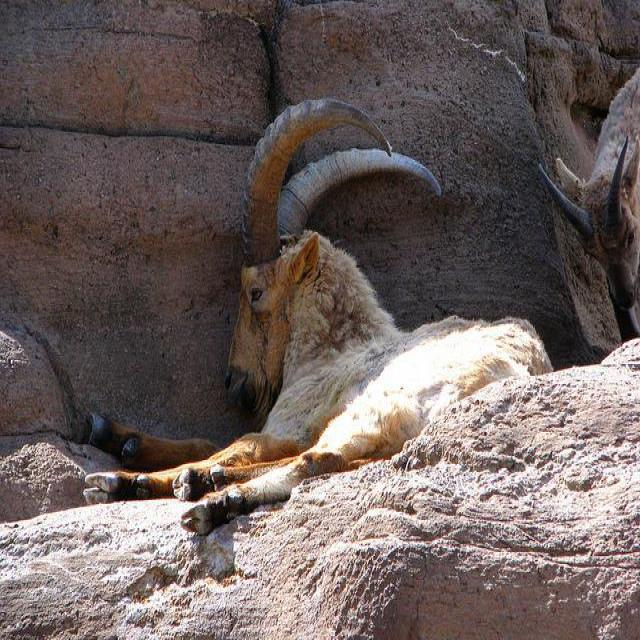Sheep: (81, 100, 550, 544), (538, 67, 639, 341)
